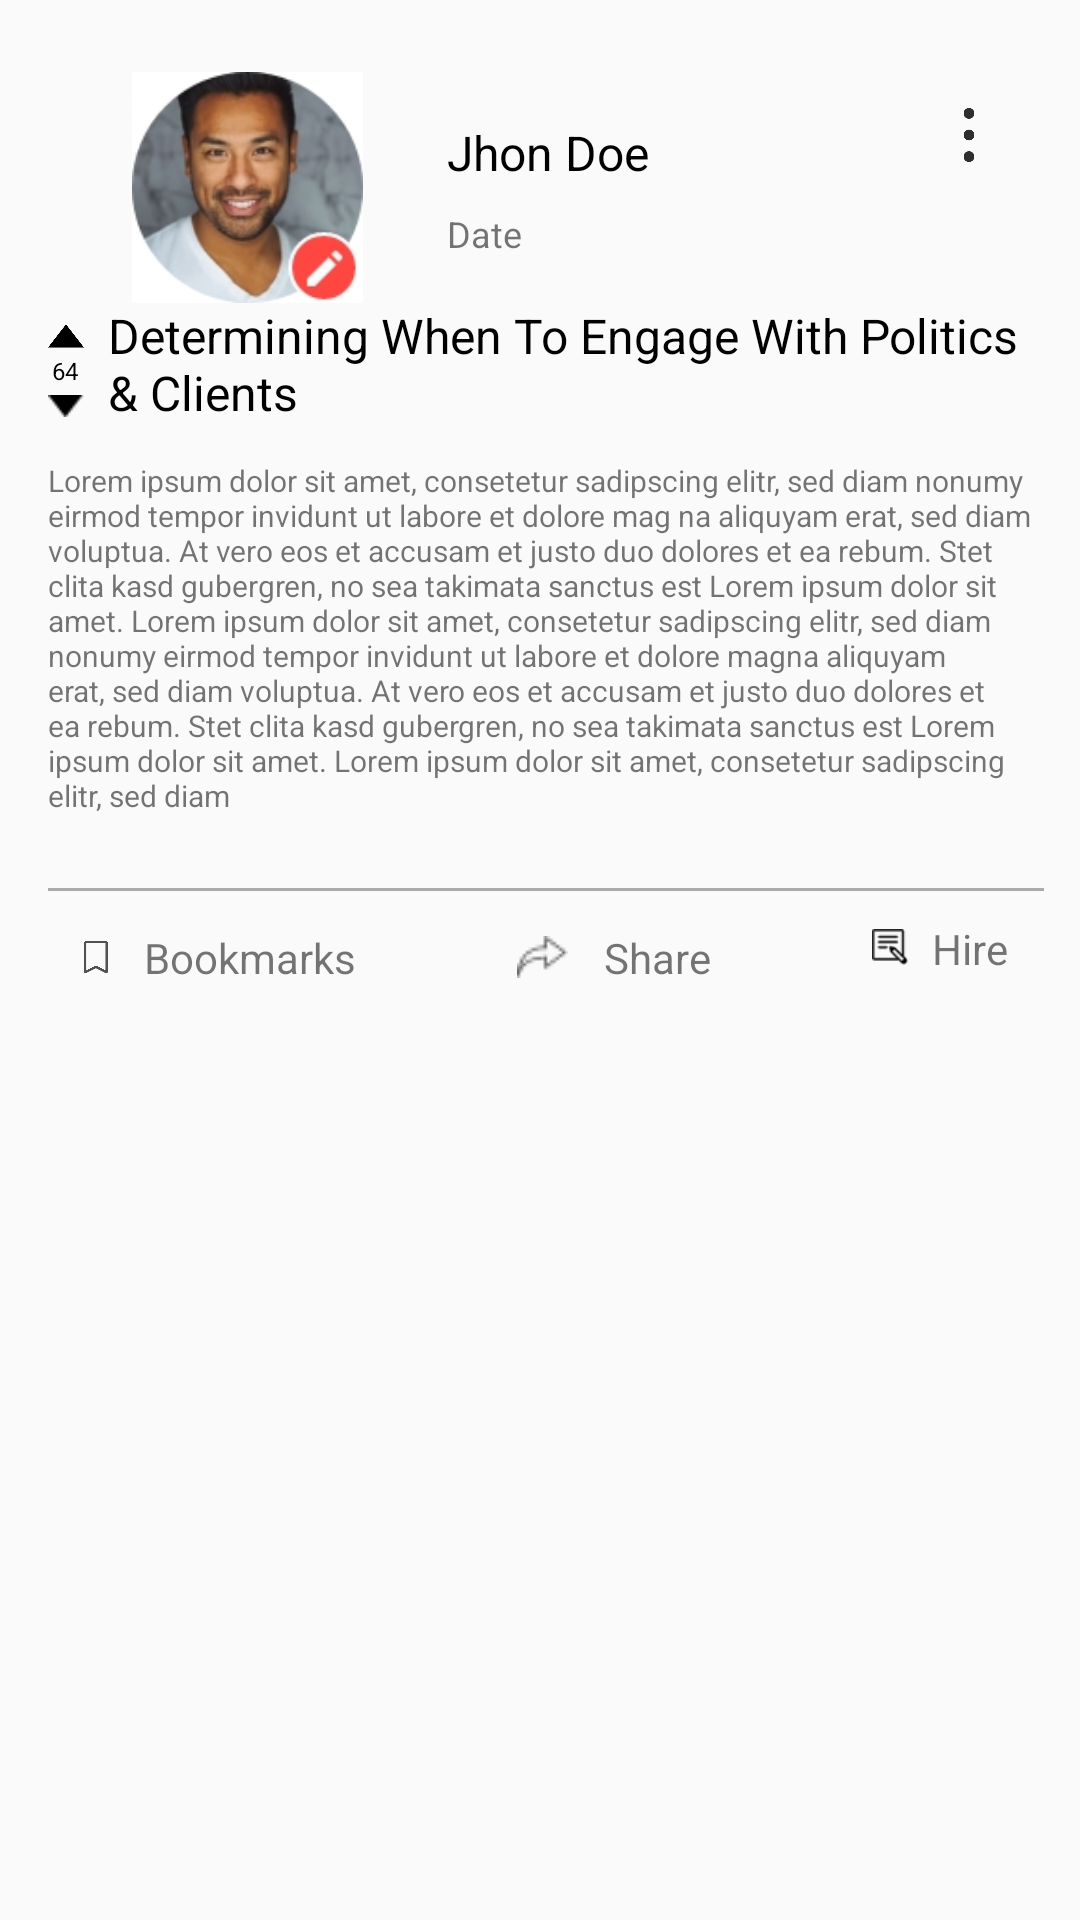

Point at icon controls on the screen. Image size 1080×1920, points as [x,y].
Options: [969,135]
